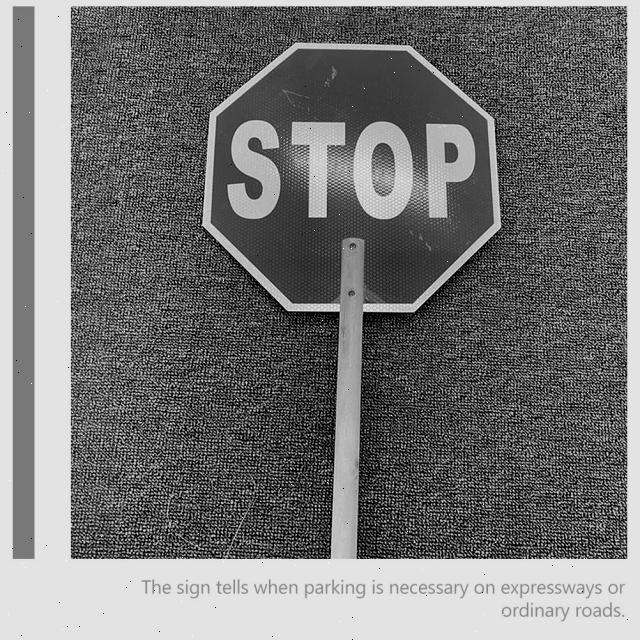Stop-sign: (198, 33, 514, 316)
